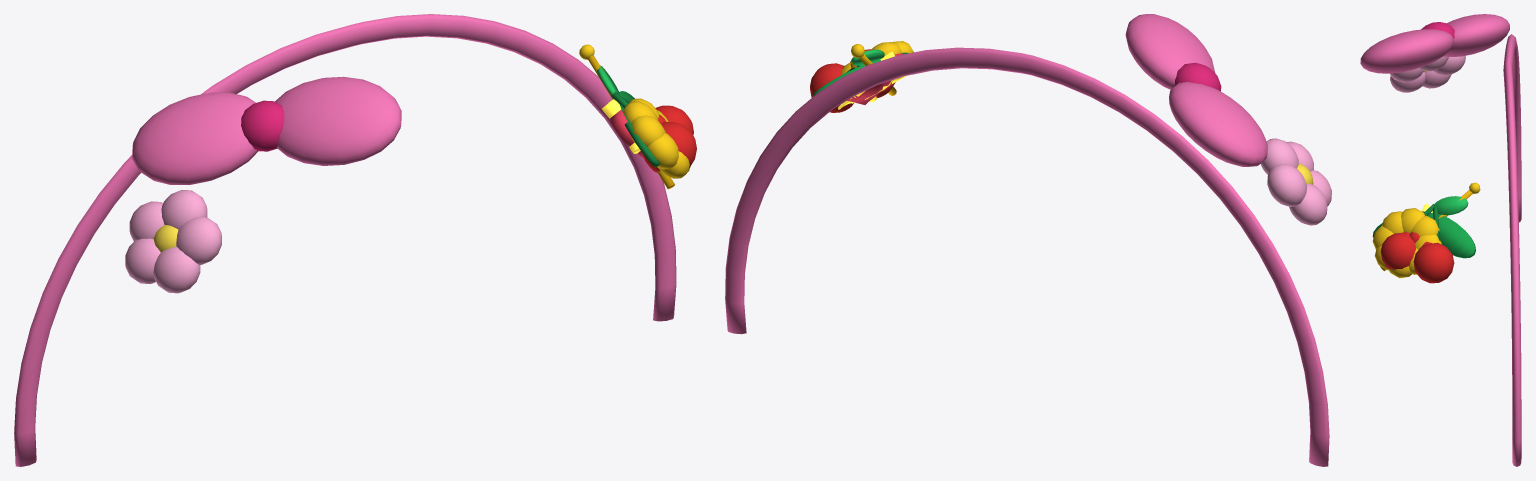
The model's file is props-x.glb.
3 views of the same model, side by side, from view 1: azimuth 30°, elevation 25°; view 2: azimuth 150°, elevation 25°; view 3: azimuth 270°, elevation 25° (orthographic). The views are drawn at different scales.
Visible parts, largest first — view 1: x-ribbon, x-flower, x-thaipin, x-cherry; view 2: x-ribbon, x-flower, x-cherry, x-thaipin; view 3: x-ribbon, x-cherry, x-thaipin, x-flower, x-holly.
Part boxes in pixels (x1,y1,x2,y2): x-ribbon: (14,14,676,466); x-flower: (125,190,221,293); x-thaipin: (579,44,690,189); x-cherry: (597,65,696,172); x-ribbon: (725,14,1329,466); x-flower: (1261,138,1331,225); x-cherry: (810,49,894,112); x-thaipin: (841,41,913,95); x-ribbon: (1360,14,1521,466); x-cherry: (1380,196,1468,283); x-thaipin: (1372,182,1480,278); x-flower: (1390,56,1465,92); x-holly: (1372,211,1475,258).
Bounding box in the file's own units: 0.5021 × 0.2757 × 0.1403.
